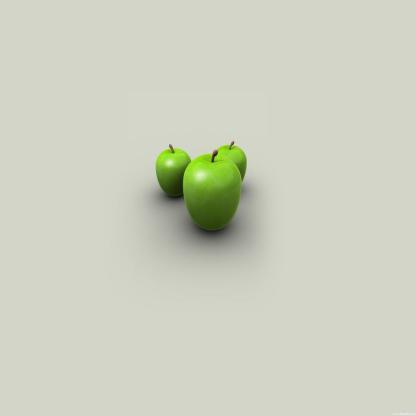Apple: (182, 139, 248, 234), (153, 143, 191, 196), (217, 138, 248, 179)
